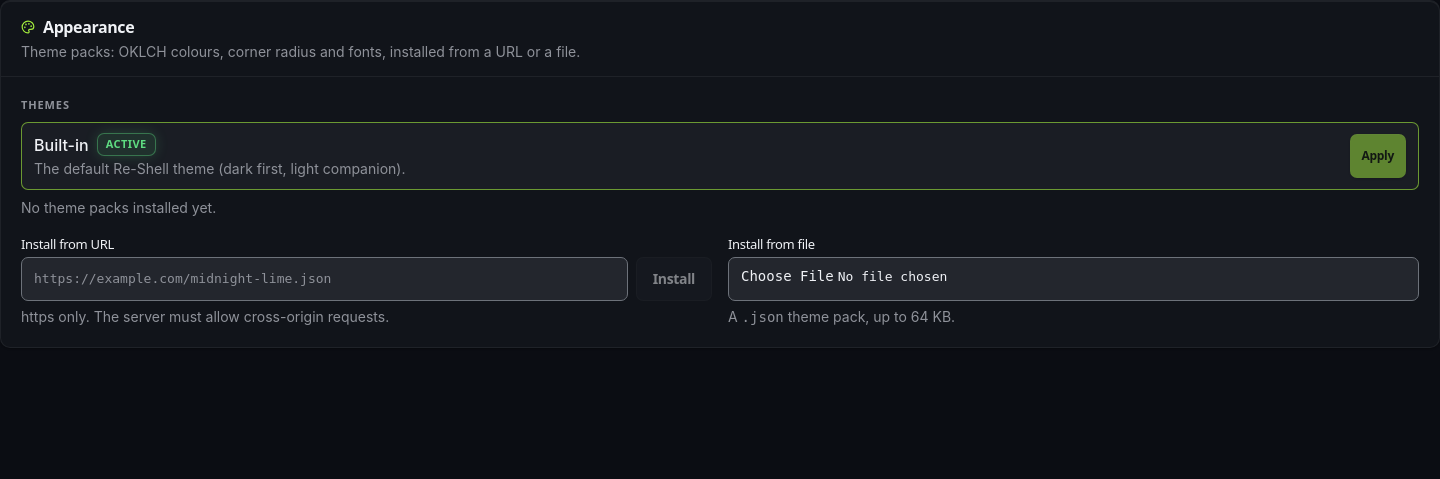
Test: AppearancePanel: install, preview, apply, remove › installs from a URL (https only) with a mocked network
This screenshot has width=1440, height=479.
Type "https://themes.example/lime.json" into the field labelled "Install from URL".
click(324, 278); type("https://themes.example/lime.json")  # box [21,256,628,300]
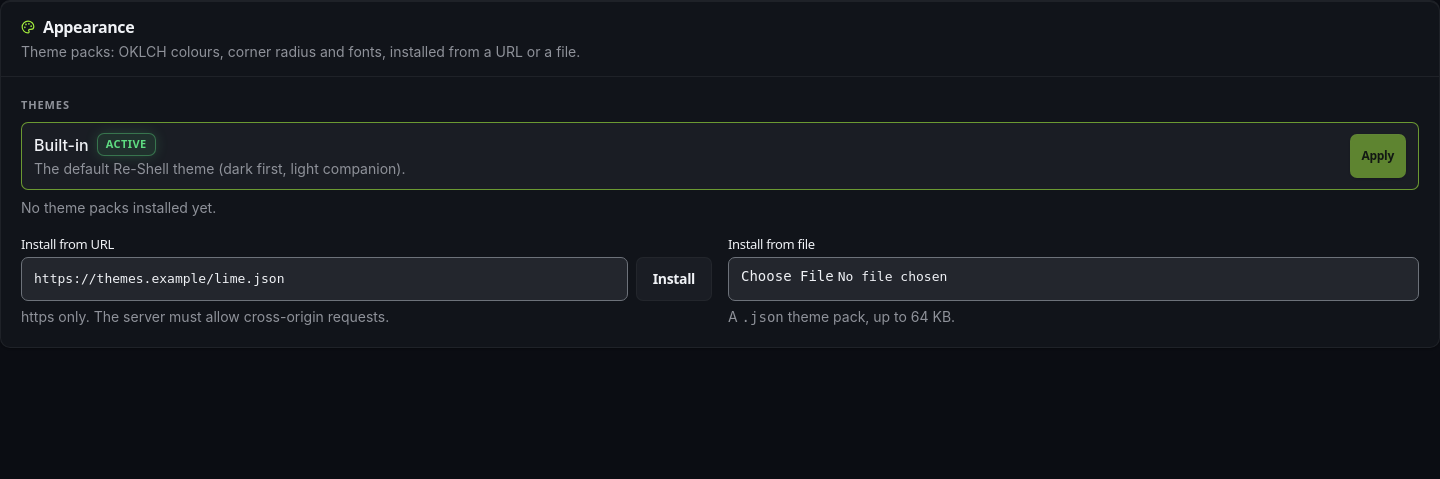
Click the button "Install".
click(674, 278)  # box [636,256,712,300]
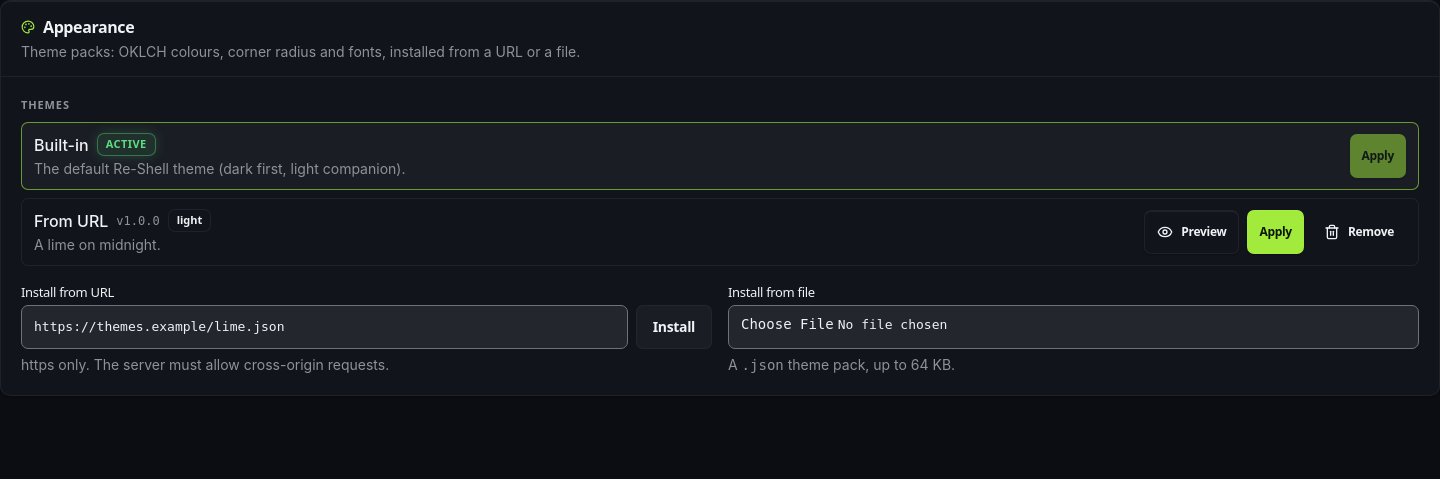
Now the button with aria-label "Apply From URL" is shown, box [1247,210,1304,254]
Replace the text in the field labelled "Install from URL" with "http://themes.example/lime.json" at coordinates (324, 326), box [21,304,628,348]
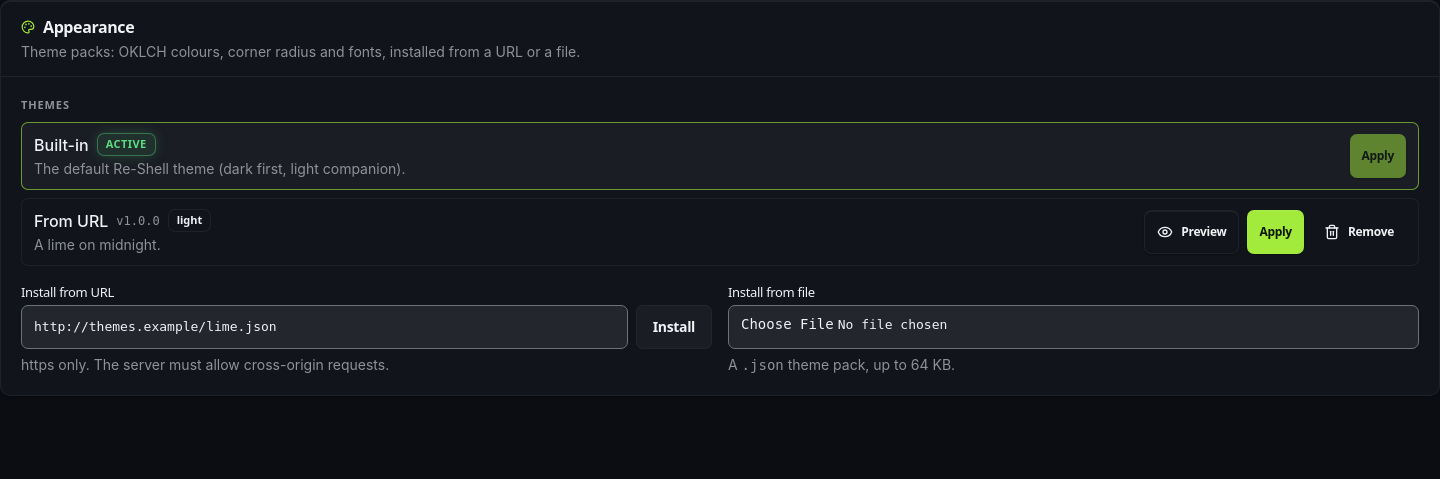
Click the button "Install".
click(674, 326)  # box [636,304,712,348]
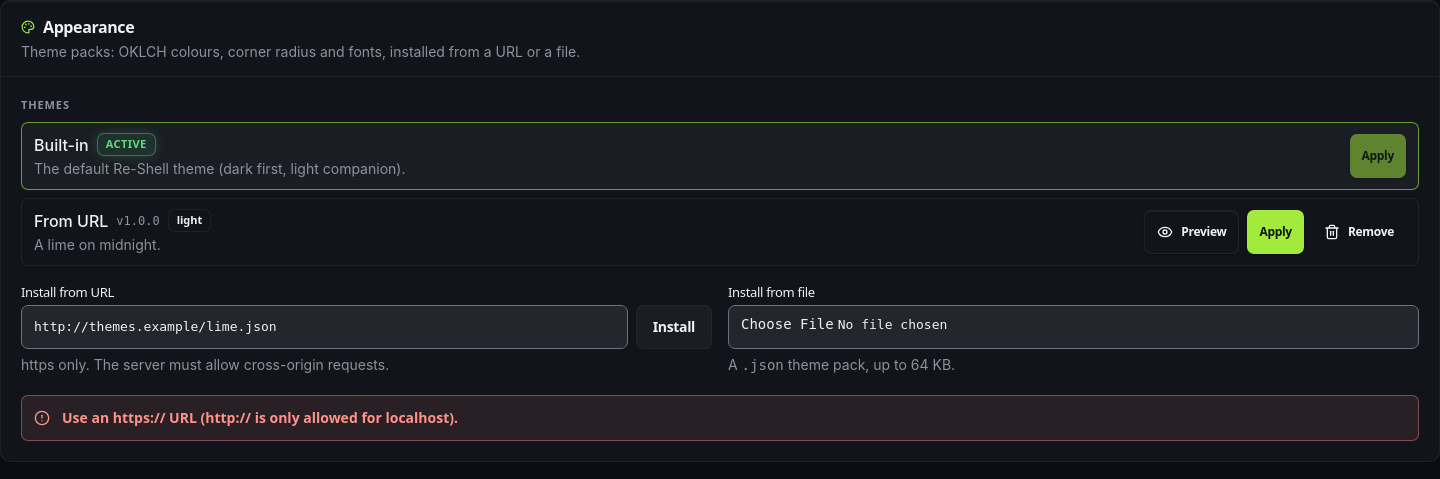
Now the message with test id "theme-install-error" shows "https", box [62,408,458,426]
